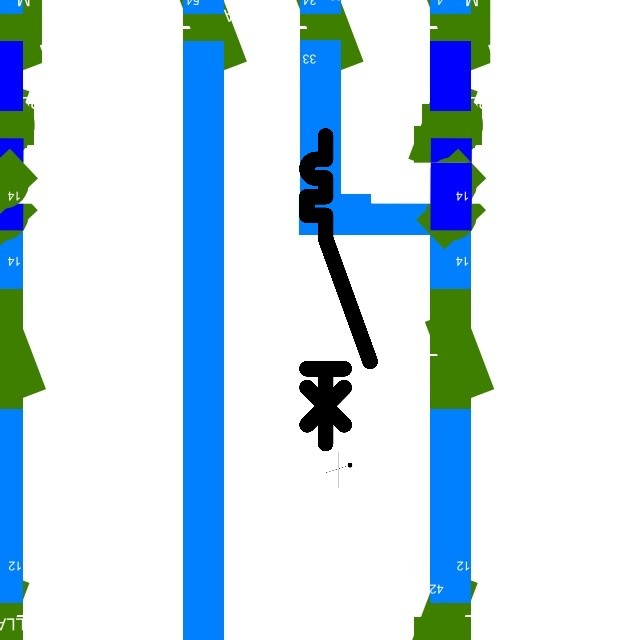interruptor_termomagnetico: (299, 128, 378, 451)
